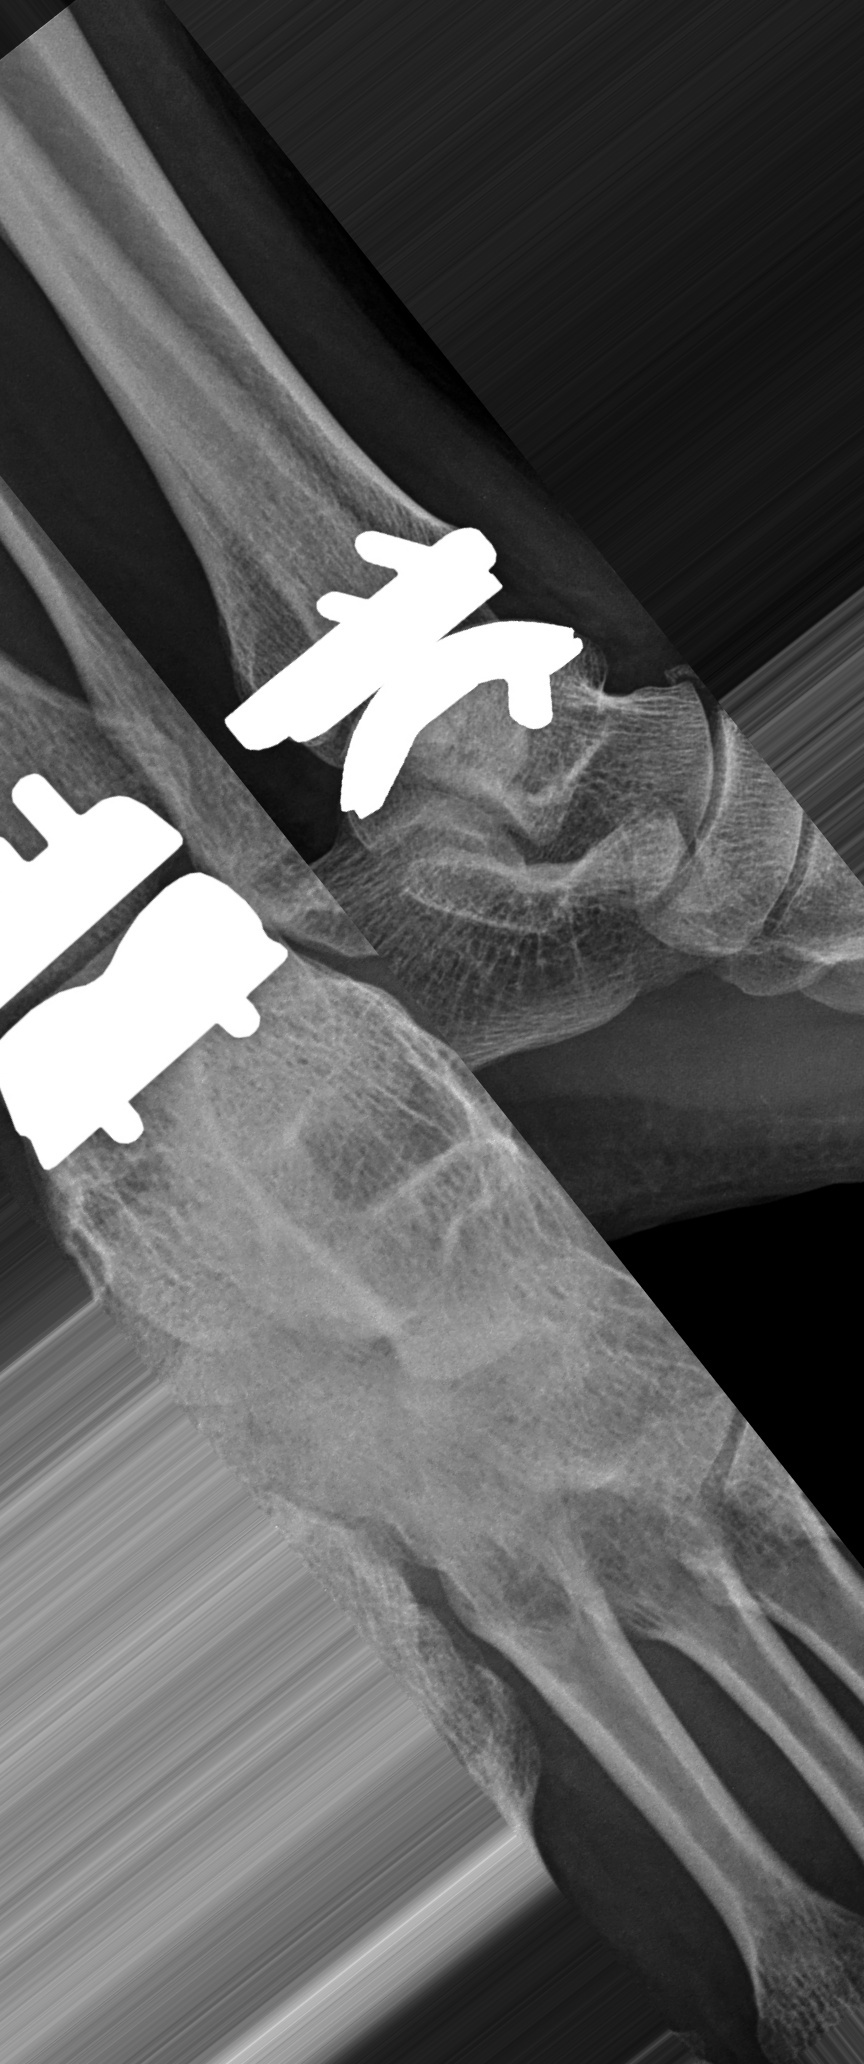Ankle - Infinity - Wright: (196, 492, 605, 832), (1, 756, 302, 1179)
